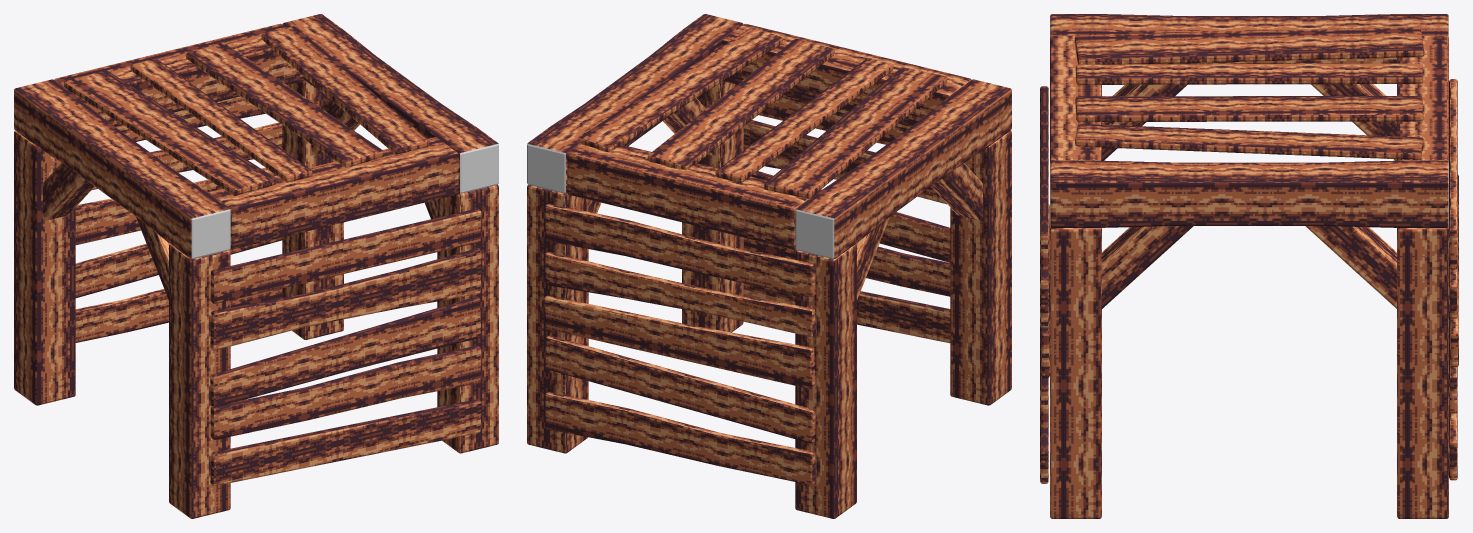
The model's file is VigasMaderaEnt 01.fbx.
The picture shows the model from 3 angles, left to right: view 1: azimuth 30°, elevation 25°; view 2: azimuth 150°, elevation 25°; view 3: azimuth 270°, elevation 25°; orthographic projection. The views are drawn at different scales.
Parts seen in each view (by area): view 1: VigasMaderaEnt.001; view 2: VigasMaderaEnt.001; view 3: VigasMaderaEnt.001.
Boxes of the visible parts, x1,y1,x2,y2 form: VigasMaderaEnt.001: (14,14,498,518); VigasMaderaEnt.001: (527,14,1011,518); VigasMaderaEnt.001: (1040,14,1458,518).
Size of the model in its own units: 2.3 by 2.41 by 2.21.
